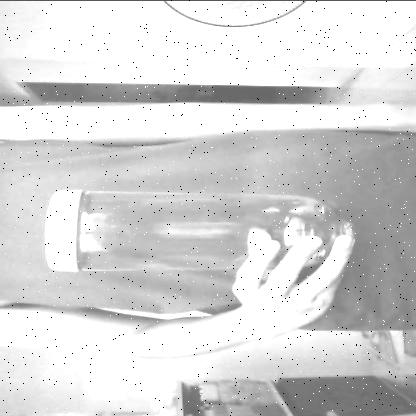Plastic Bottle: (43, 191, 359, 269)
